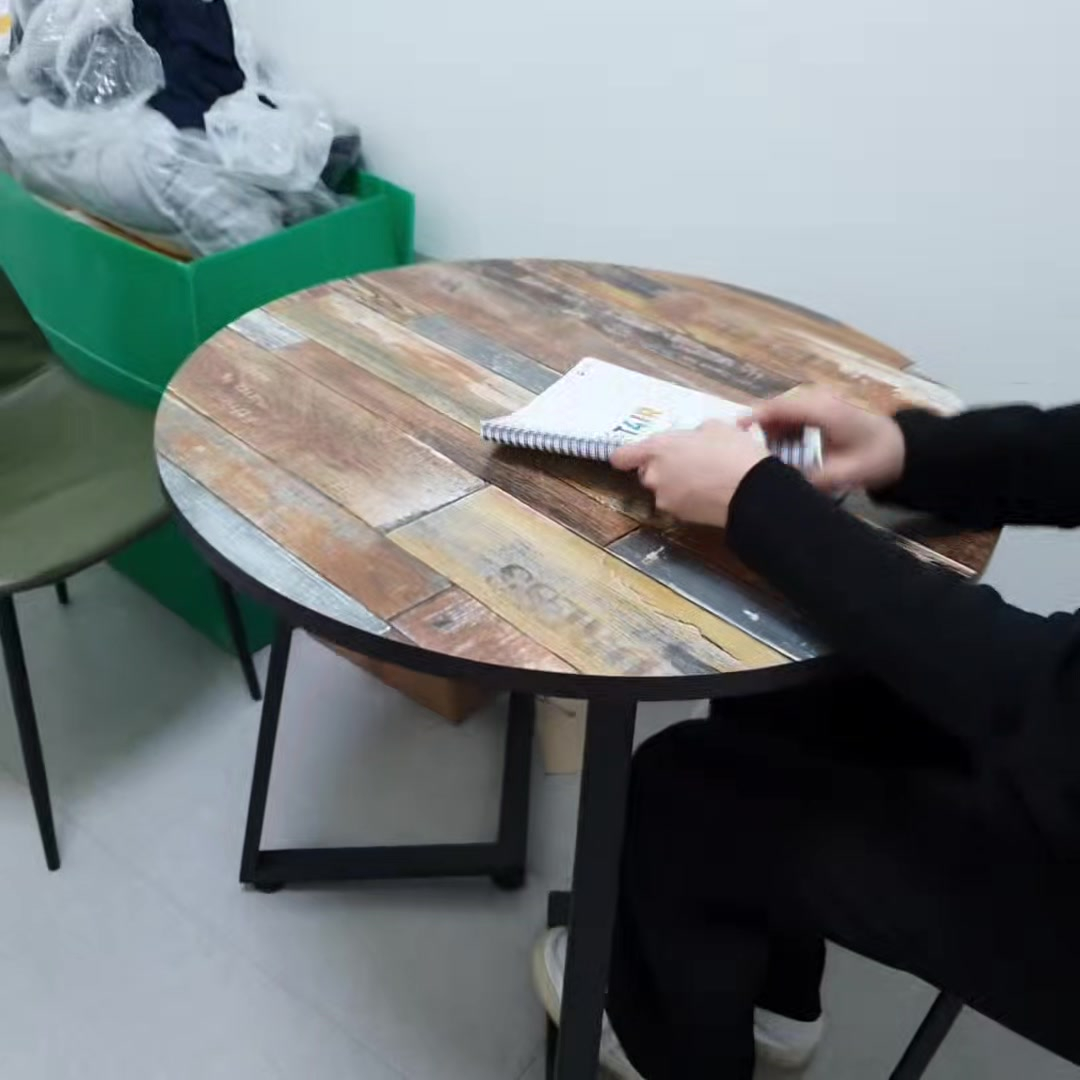book: (485, 356, 832, 472)
